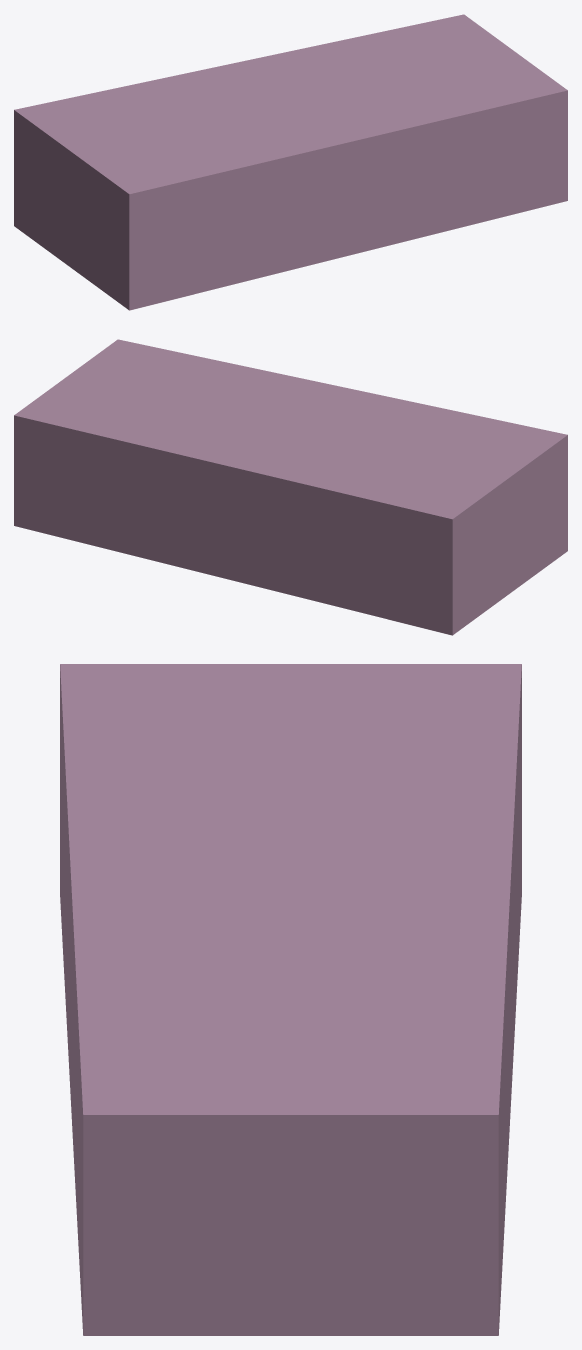
File: vehicle_boat.glb
3 views of the same model, one above another, from view 1: azimuth 30°, elevation 25°; view 2: azimuth 150°, elevation 25°; view 3: azimuth 270°, elevation 25° (orthographic). The views are drawn at different scales.
Visible parts, largest first — view 1: vehicle_boat; view 2: vehicle_boat; view 3: vehicle_boat.
Part boxes in pixels (left/top/right/bottom): vehicle_boat: left=14, top=14, right=567, bottom=310; vehicle_boat: left=14, top=339, right=567, bottom=635; vehicle_boat: left=60, top=664, right=521, bottom=1335.
Bounding box in the file's own units: 2 × 0.5125 × 0.9.
